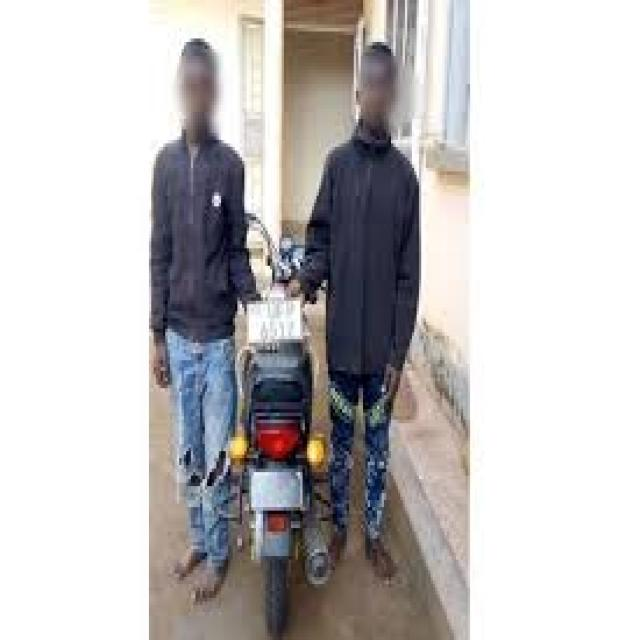bodaboda: (185, 168, 356, 638)
